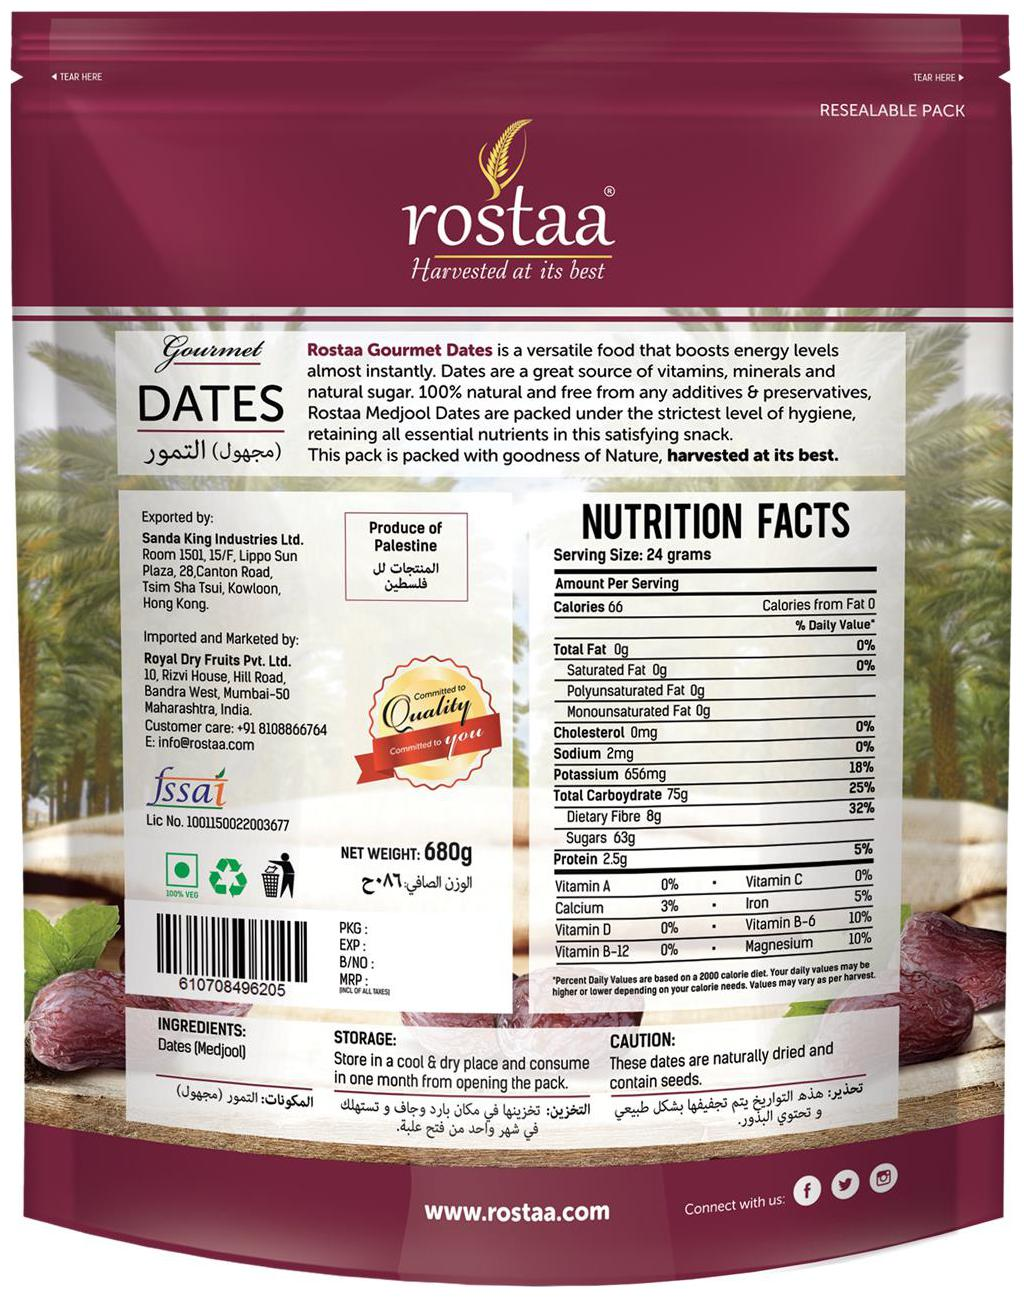fssai: (142, 760, 228, 809)
